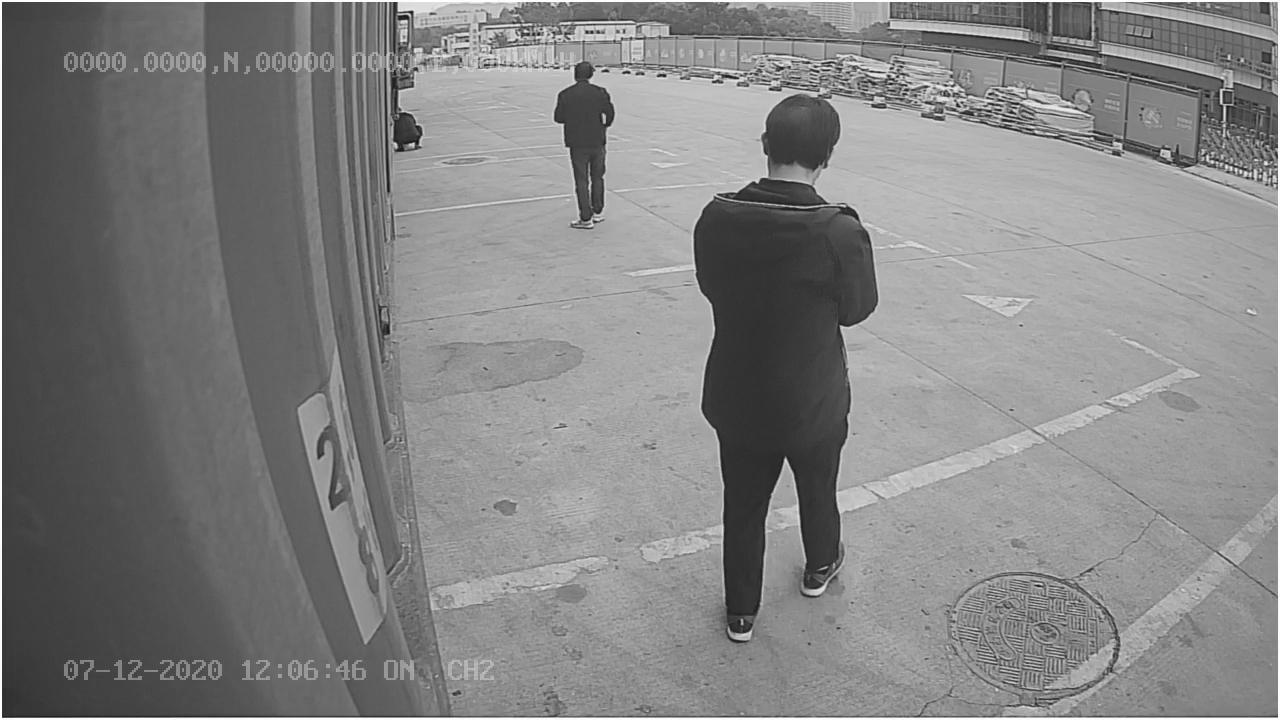person: (691, 88, 879, 645)
